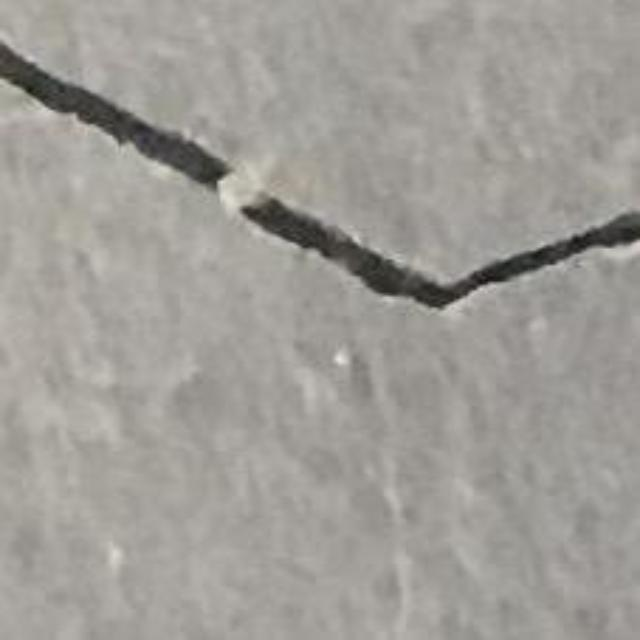crack: (240, 189, 639, 310)
